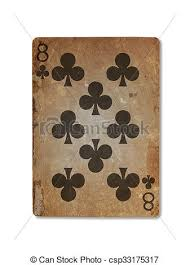eight of clubs: (32, 37, 160, 218)
